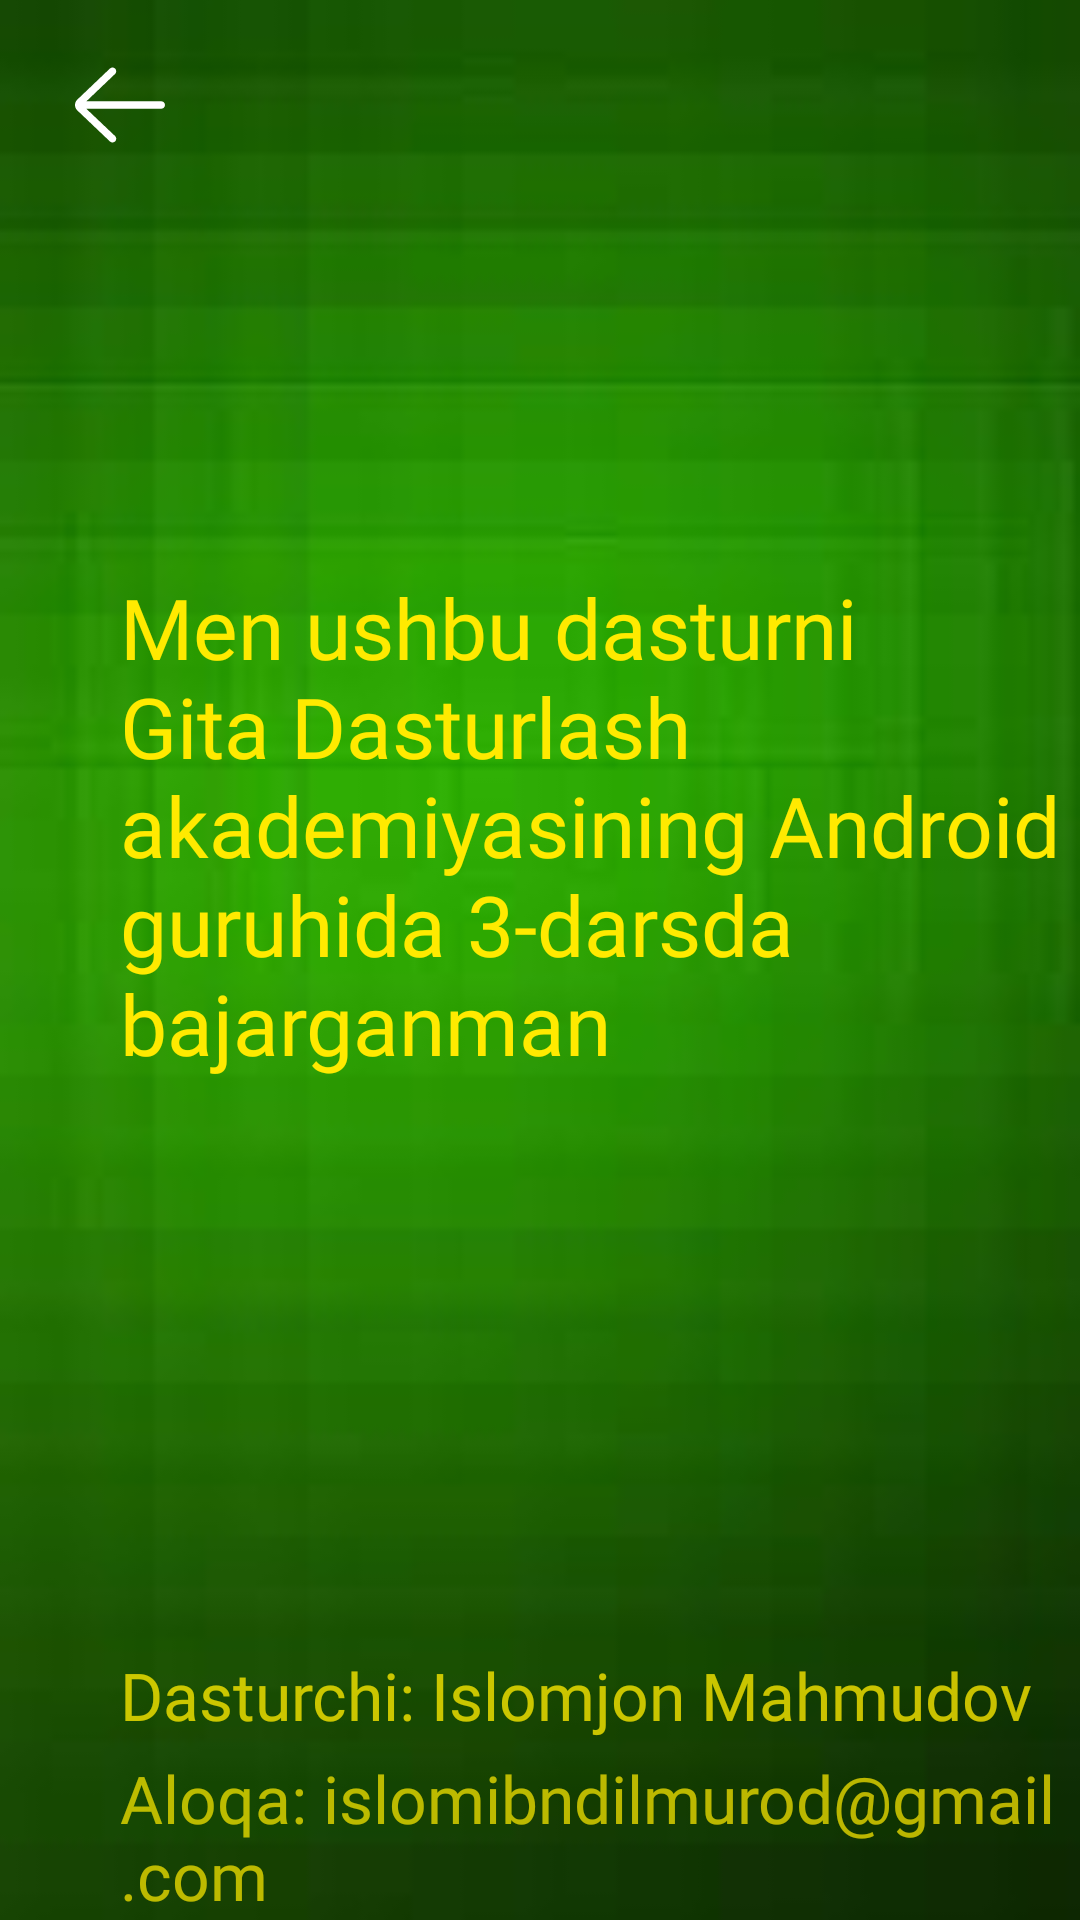

Named icons in this screenshot (1080px×1920px) and their bounding boxes, box=[x1, y1, x2, y2]:
backsvg: box=[75, 67, 165, 143]
